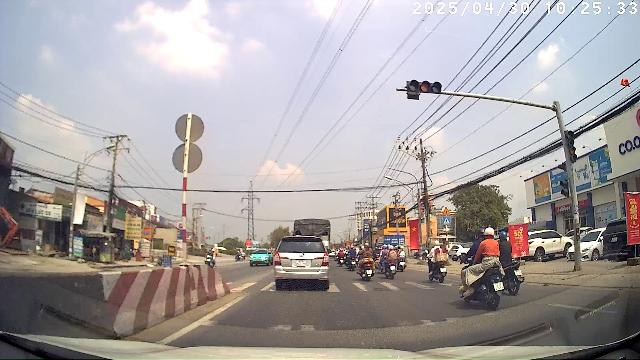423a-duong-nguoi-di-bo-sang-ngang-1: (442, 216, 451, 225)
